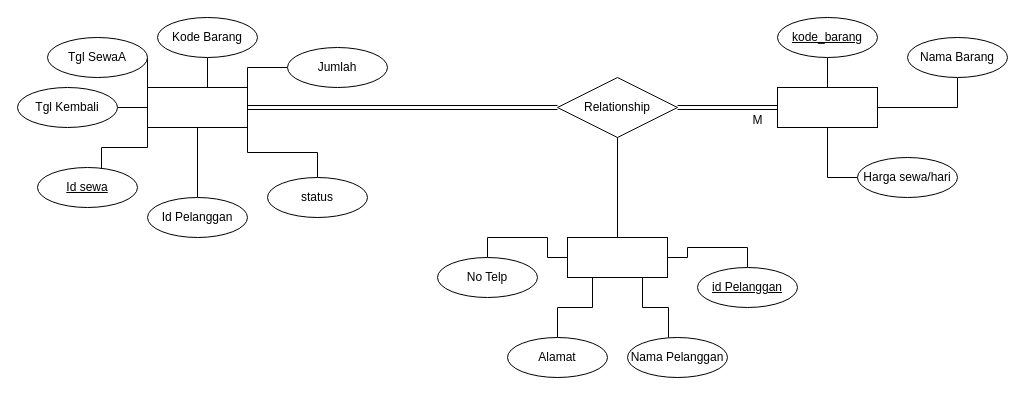
Image size: 1025x395. Some labels were removed from this diagram. Here are the shapes that lost their labels. From the top down, the centre of each, then its label:
the point at 197,107: penyewaan
the point at 827,107: barang
the point at 617,257: pelanggan
